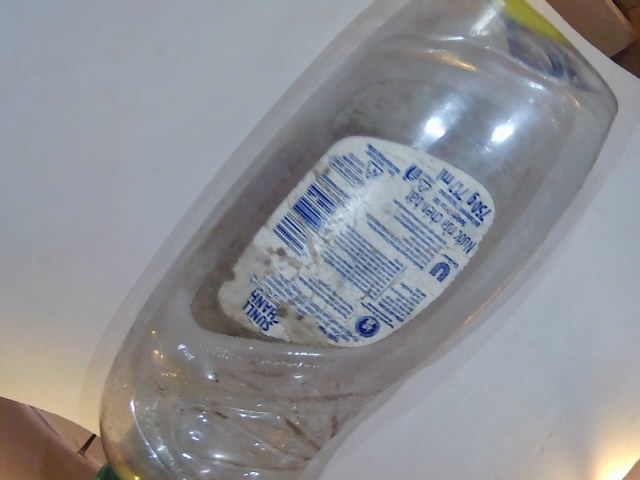plastic: (78, 1, 622, 480)
